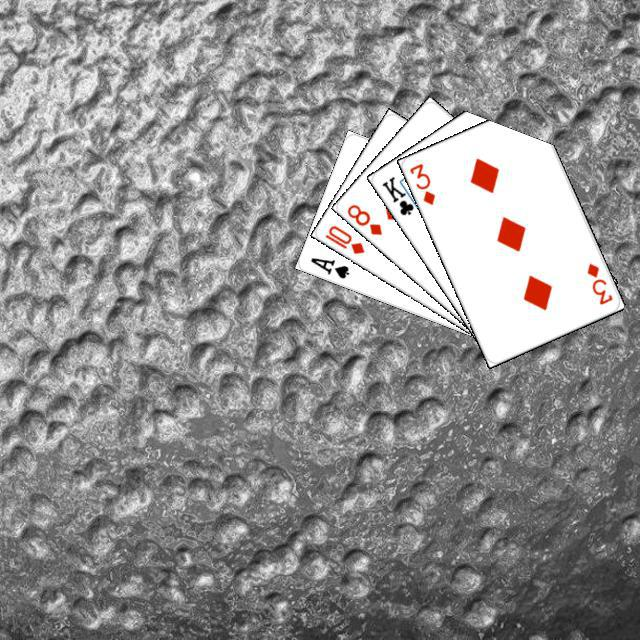10d: (320, 220, 366, 256)
3d: (582, 258, 615, 307), (405, 158, 437, 207)
8d: (342, 199, 384, 237)
As: (305, 252, 351, 280)
Kc: (377, 171, 423, 217)
